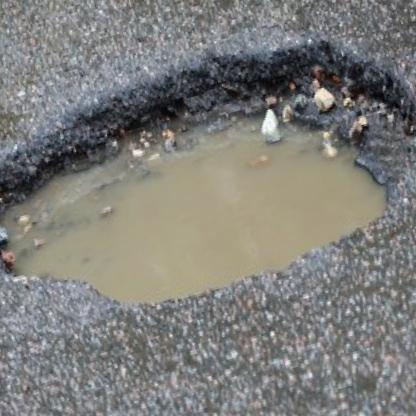pothole: (0, 5, 416, 350)
